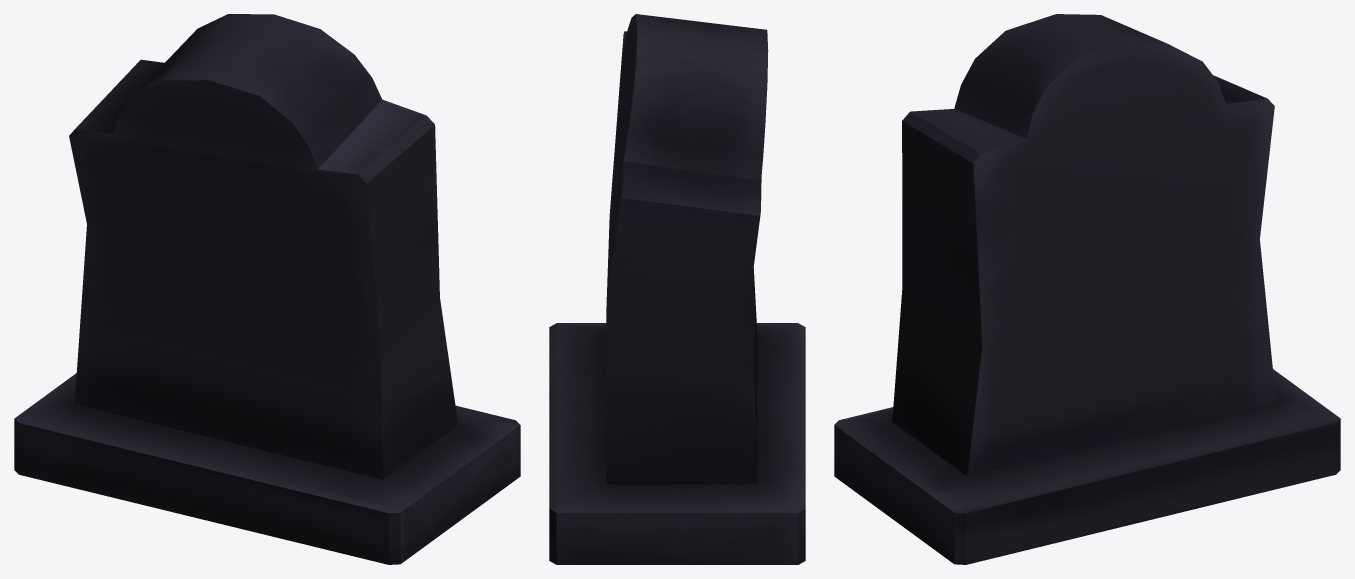
Rendered from gravestone04.FBX.
3 views of the same model, side by side, from view 1: azimuth 30°, elevation 25°; view 2: azimuth 150°, elevation 25°; view 3: azimuth 270°, elevation 25° (orthographic).
Visible parts, largest first — view 1: gravestone04; view 2: gravestone04; view 3: gravestone04.
Part boxes in pixels (x1,y1,x2,y2): gravestone04: [14, 14, 520, 564]; gravestone04: [549, 14, 805, 564]; gravestone04: [834, 14, 1340, 564].
Size of the model in its own units: 15.15 by 17.01 by 17.68.
